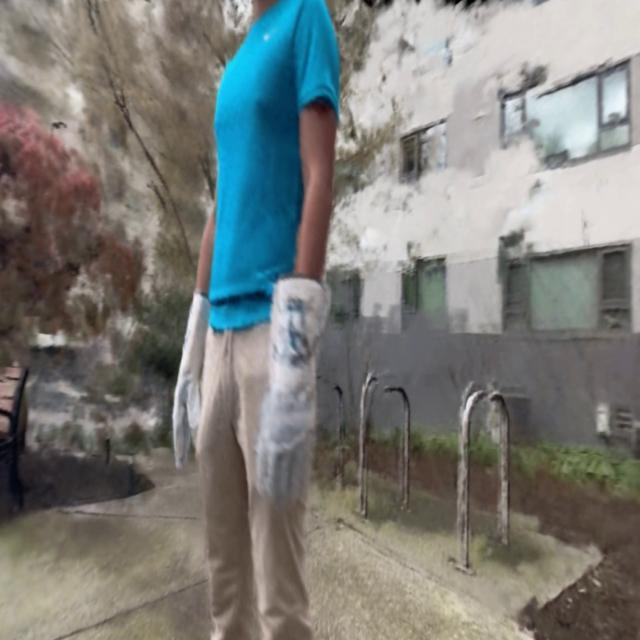gloves: (250, 265, 334, 507), (168, 281, 208, 469)
